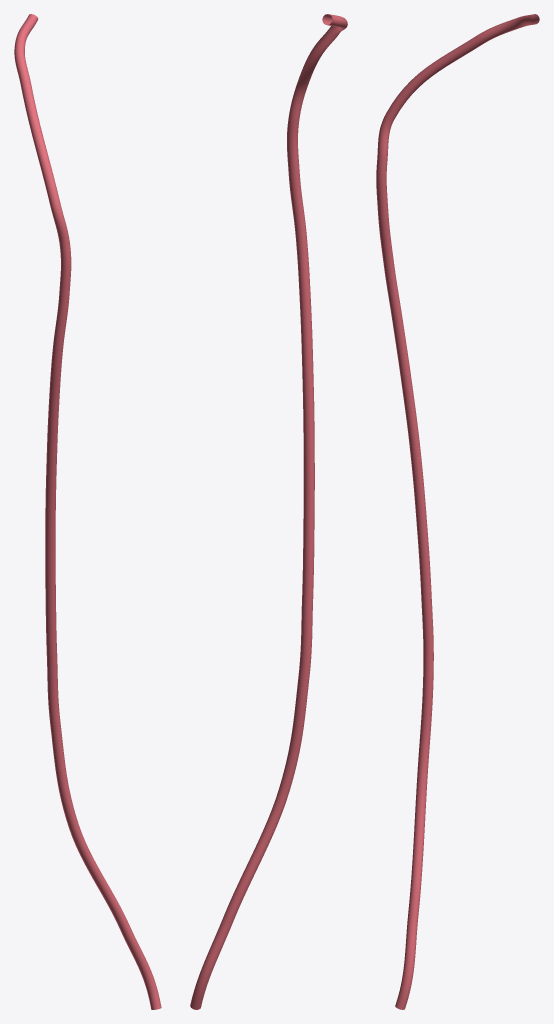
The picture shows the model from 3 angles, left to right: view 1: azimuth 30°, elevation 25°; view 2: azimuth 210°, elevation 25°; view 3: azimuth 270°, elevation 25°; orthographic projection. The views are drawn at different scales.
Visible parts, largest first — view 1: ZA_be5411240f83f088; view 2: ZA_be5411240f83f088; view 3: ZA_be5411240f83f088.
Part boxes in pixels (x1=…): ZA_be5411240f83f088: x1=14, y1=14, x2=161, y2=1009; ZA_be5411240f83f088: x1=190, y1=14, x2=347, y2=1009; ZA_be5411240f83f088: x1=376, y1=14, x2=539, y2=1009.
Size of the model in its own units: 0.0381 by 0.3036 by 0.0465.
